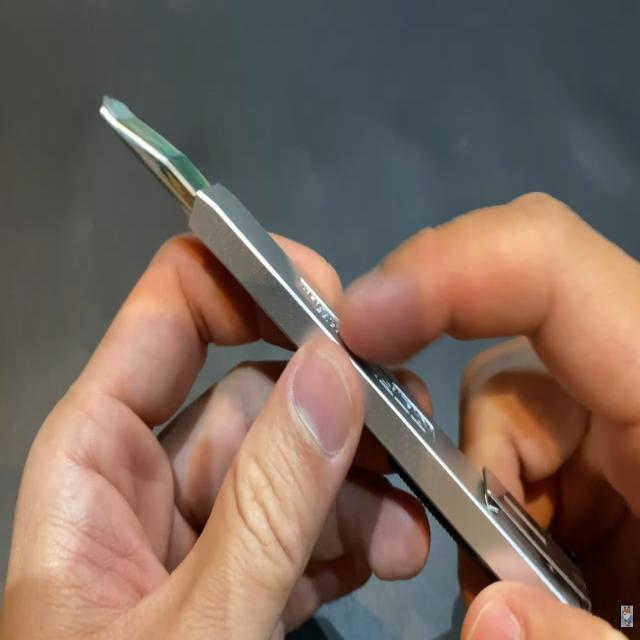cutter: (63, 52, 640, 594)
